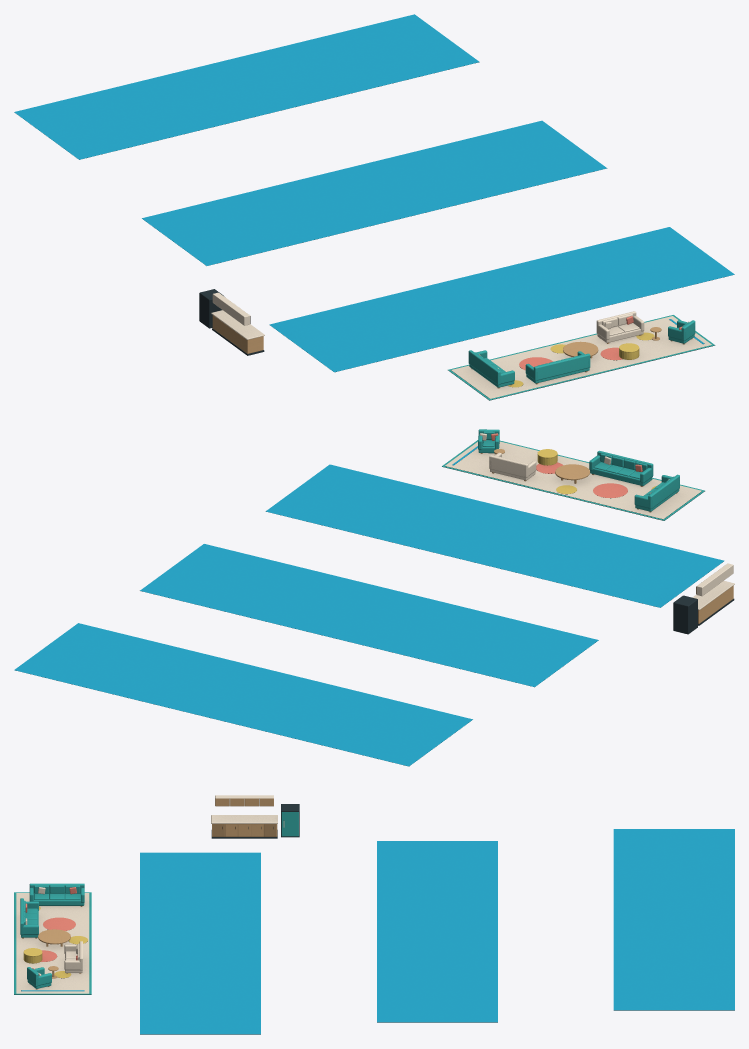
Rendered from Lounge_Furniture.fbx.
3 renders of one model, top to bottom at view 1: azimuth 30°, elevation 25°; view 2: azimuth 150°, elevation 25°; view 3: azimuth 270°, elevation 25°, orthographic. The views are drawn at different scales.
Visible parts, largest first — view 1: Playing_Rug_2, Playing_Rug_0, Playing_Rug_1, Furniture_Rug_Lounge, Furniture_SnackCounter, Furniture_Sofa_Teal_Foreground, Furniture_Loveseat_Cream, Furniture_Sofa_Teal_Left; view 2: Playing_Rug_0, Playing_Rug_1, Playing_Rug_2, Furniture_Rug_Lounge, Furniture_Sofa_Teal_Foreground, Furniture_SnackCounter, Furniture_Sofa_Teal_Left, Furniture_SnackFridge, Furniture_Loveseat_Cream; view 3: Playing_Rug_2, Playing_Rug_0, Playing_Rug_1, Furniture_Rug_Lounge, Furniture_SnackCounter, Furniture_Sofa_Teal_Left, Furniture_Sofa_Teal_Foreground, Furniture_SnackWallCabinet, Furniture_SnackFridge, Furniture_Loveseat_Cream, Furniture_Armchair_Teal_Right, Furniture_CoffeeTable_Oak.
Boxes of the visible parts, box(x1,y1,x2,y2) form: Playing_Rug_2: box(14, 14, 479, 159); Playing_Rug_0: box(269, 227, 734, 372); Playing_Rug_1: box(142, 120, 607, 265); Furniture_Rug_Lounge: box(448, 315, 715, 400); Furniture_SnackCounter: box(211, 310, 264, 355); Furniture_Sofa_Teal_Foreground: box(525, 351, 590, 384); Furniture_Loveseat_Cream: box(596, 311, 644, 343); Furniture_Sofa_Teal_Left: box(468, 350, 514, 388); Playing_Rug_0: box(265, 464, 724, 607); Playing_Rug_1: box(140, 544, 598, 687); Playing_Rug_2: box(14, 623, 472, 766); Furniture_Rug_Lounge: box(442, 440, 704, 520); Furniture_Sofa_Teal_Foreground: box(589, 450, 653, 486); Furniture_SnackCounter: box(692, 581, 734, 625); Furniture_Sofa_Teal_Left: box(634, 474, 679, 512); Furniture_SnackFridge: box(673, 595, 697, 634); Furniture_Loveseat_Cream: box(489, 452, 536, 481); Playing_Rug_2: box(613, 829, 734, 1010); Playing_Rug_0: box(140, 852, 260, 1034); Playing_Rug_1: box(377, 841, 497, 1022); Furniture_Rug_Lounge: box(14, 892, 91, 994); Furniture_SnackCounter: box(211, 815, 277, 838); Furniture_Sofa_Teal_Left: box(29, 883, 84, 906); Furniture_Sofa_Teal_Foreground: box(20, 898, 38, 938); Furniture_SnackWallCabinet: box(215, 795, 273, 806); Furniture_SnackFridge: box(281, 804, 299, 837); Furniture_Loveseat_Cream: box(64, 941, 82, 973); Furniture_Armchair_Teal_Right: box(27, 967, 51, 989); Furniture_CoffeeTable_Oak: box(38, 929, 70, 946).
Size of the model in its own units: 87.63 by 7.05 by 131.
1 material, 1 textured.
